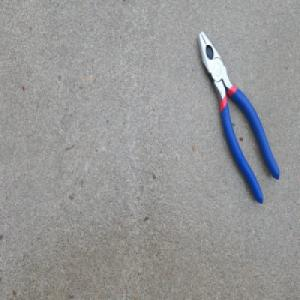Pliers: (195, 29, 279, 206)
